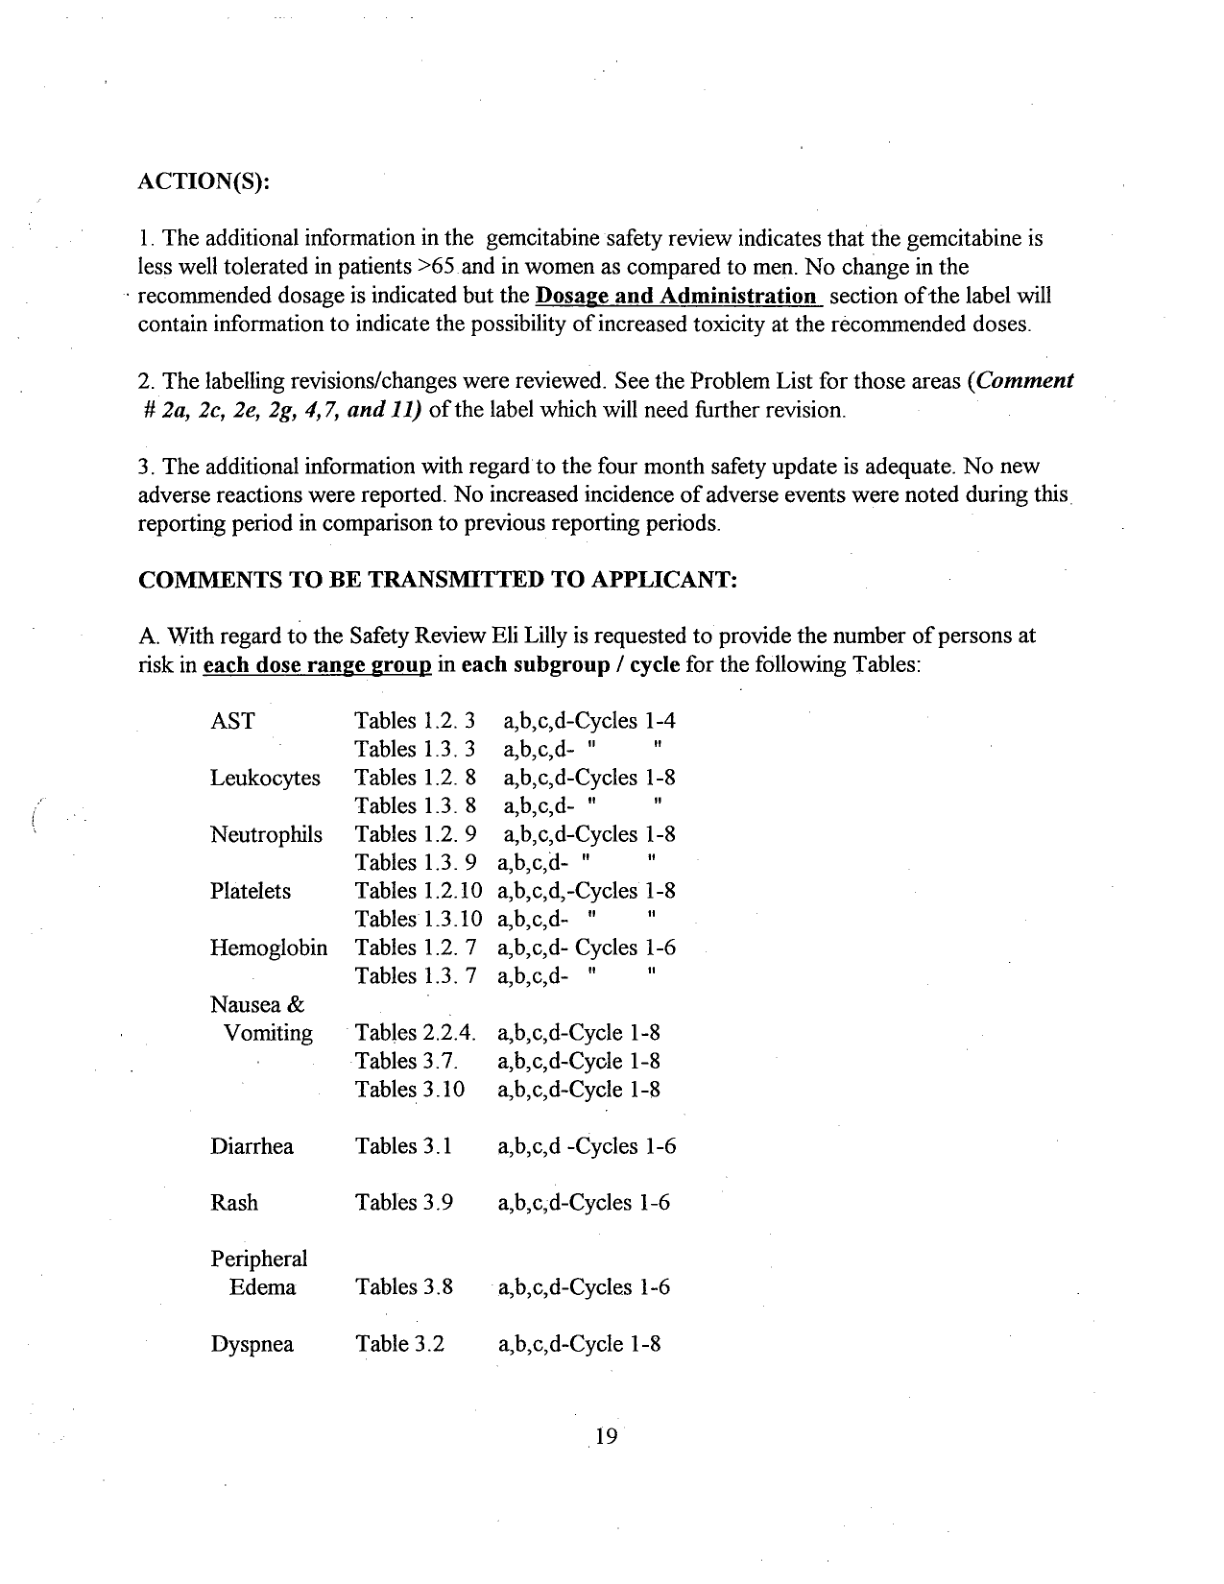nolines: (206, 708, 679, 1359)
